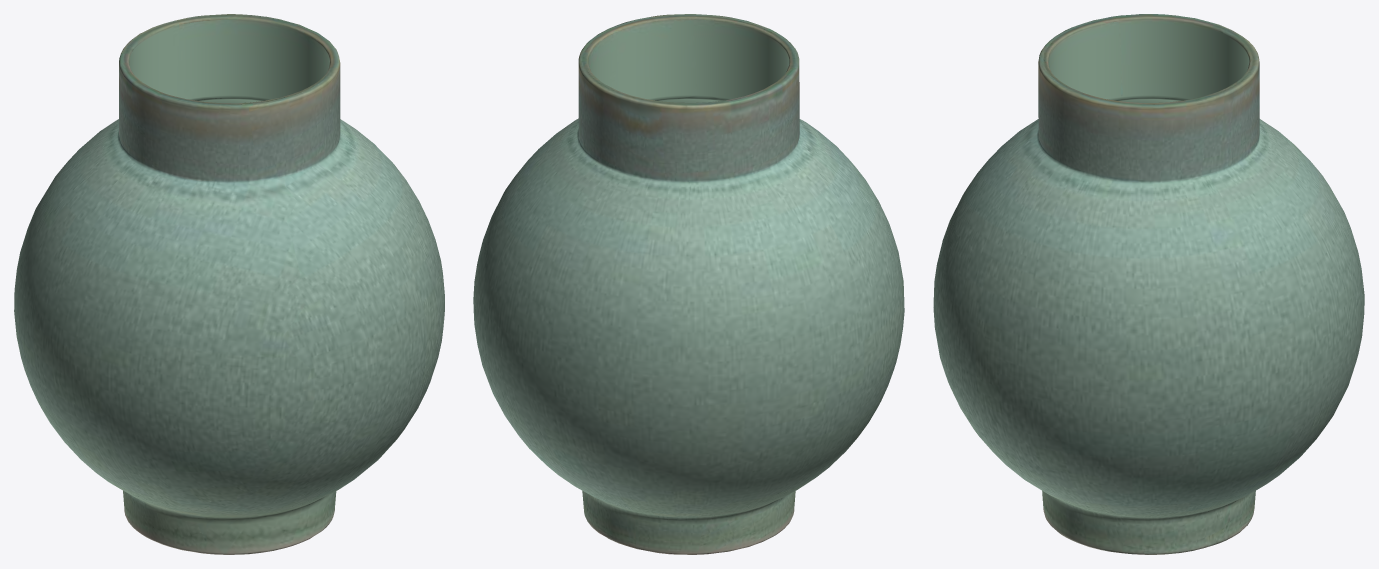
The picture shows the model from 3 angles, left to right: view 1: azimuth 30°, elevation 25°; view 2: azimuth 150°, elevation 25°; view 3: azimuth 270°, elevation 25°; orthographic projection.
Visible parts, largest first — view 1: ASY_ART_70637733_S01_NV01; view 2: ASY_ART_70637733_S01_NV01; view 3: ASY_ART_70637733_S01_NV01.
Part boxes in pixels (<box>): ASY_ART_70637733_S01_NV01: <box>14,14,444,554</box>; ASY_ART_70637733_S01_NV01: <box>473,14,904,554</box>; ASY_ART_70637733_S01_NV01: <box>933,14,1364,554</box>.
Size of the model in its own units: 0.1952 by 0.2255 by 0.1951.
Materials: 1 (1 with a texture image).
